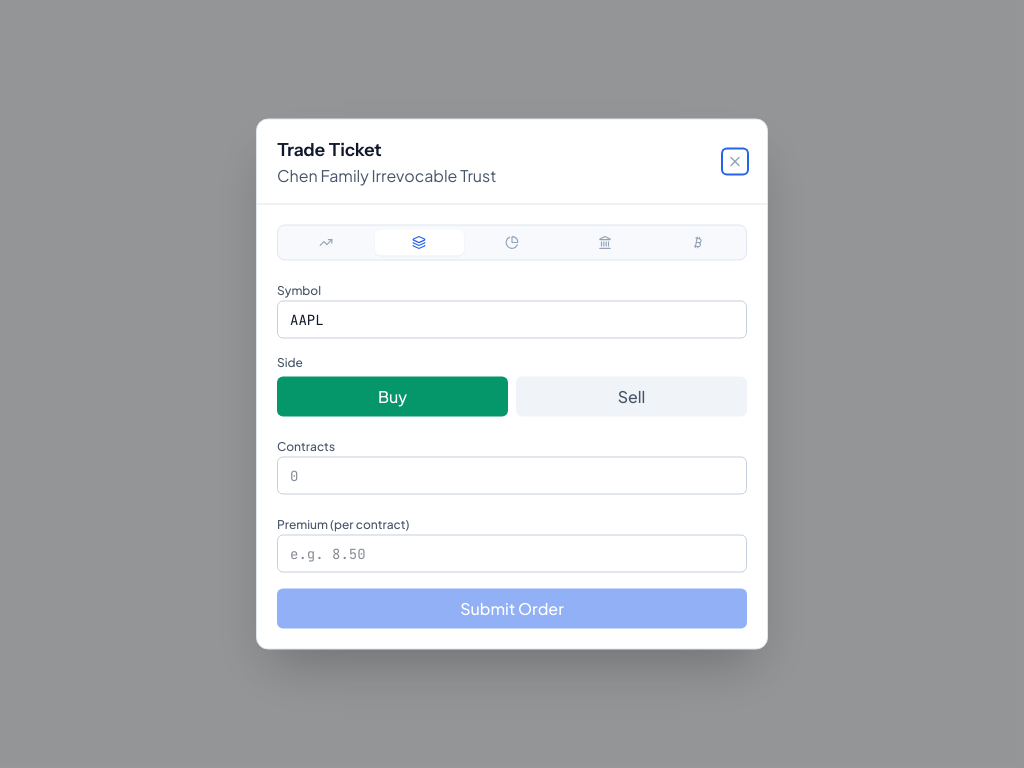
it: TradeTicketDialog — non-equity notional wiring (fix round 4) › an option with no premium entered blocks submission — the underlying's share price is not a premium
In the number field labelled "Contracts": (512, 476) [277,456,747,494], type "3000"
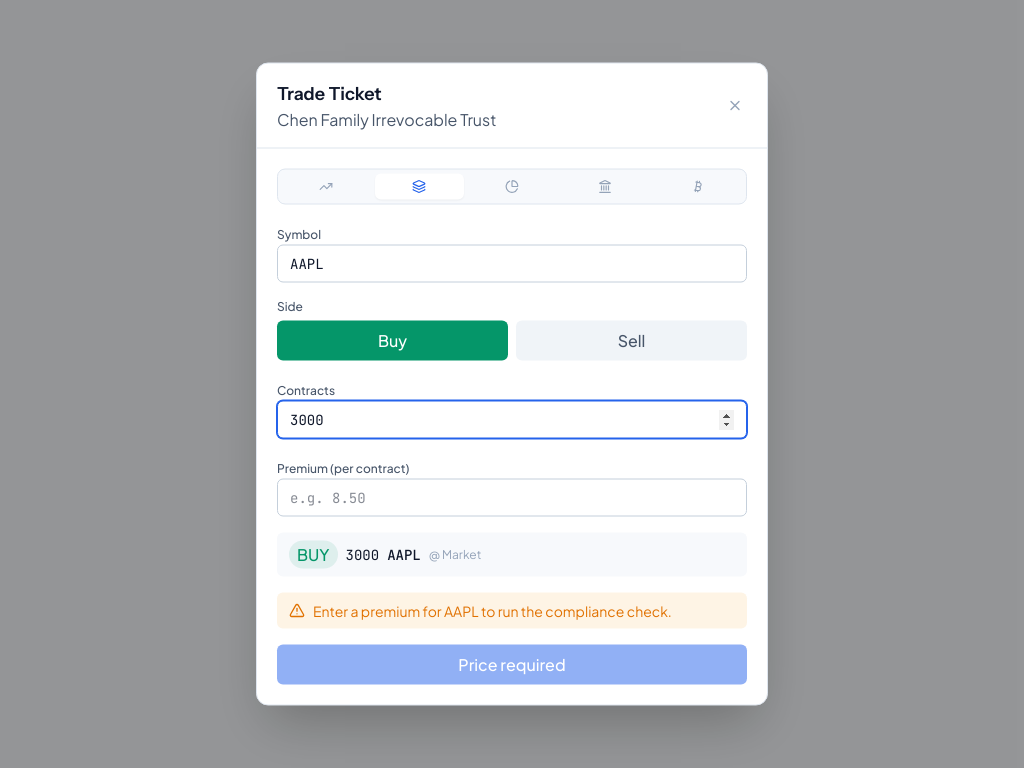
Expected: the button "Price required" is disabled, [277,644,747,684]
Now the text "Enter a premium for AAPL to run the compliance check." is shown, box [277,592,747,628]
